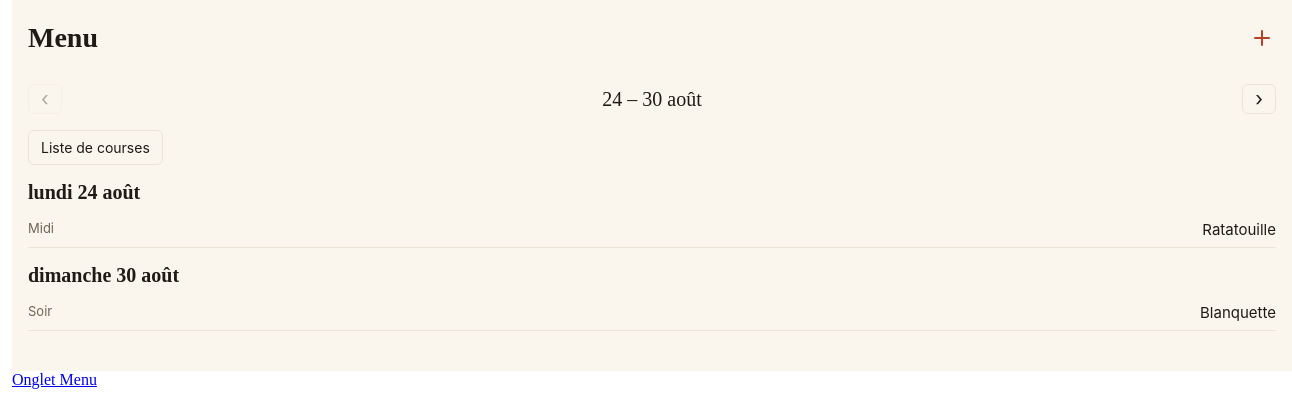
it: MenuContainer — consultation des menus enregistrés › revenir au menu tout court depuis l’adresse d’une semaine repart de la semaine initiale, SANS qu’aucun démontage n’ait lieu : la route ne change pas, seule l’ad
This screenshot has width=1292, height=407.
Expected: the text "24 – 30 août" is shown, x1=602 y1=88 x2=702 y2=110
Click the link "Onglet Menu" at (54, 380), box x1=12 y1=371 x2=97 y2=388
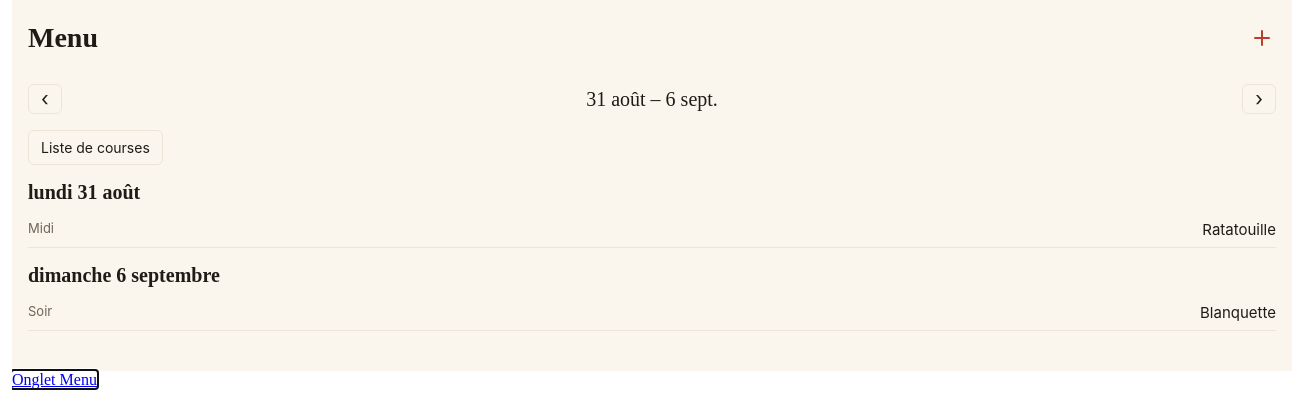
Expected: the text "31 août – 6 sept." is shown, x1=586 y1=88 x2=718 y2=110
Expected: the text "24 – 30 août" is gone
